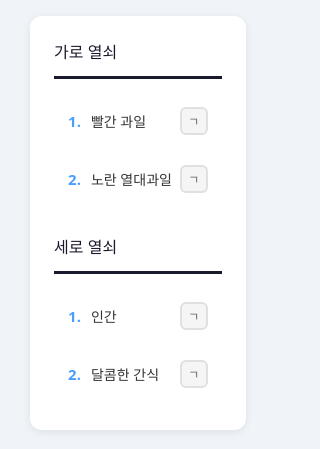
it: HintPanel › 상호작용 › 가로 초성 버튼 클릭 시 초성이 표시됨
Note: 첫 번째 초성 버튼 클릭 (가로 단어)
Click the button titled "초성 힌트" next to "빨간 과일": [194, 121] box left=180, top=107, right=208, bottom=135
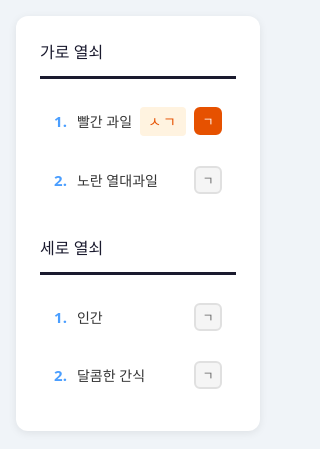
Result: the text "ㅅㄱ" is shown at left=140, top=106, right=186, bottom=136
